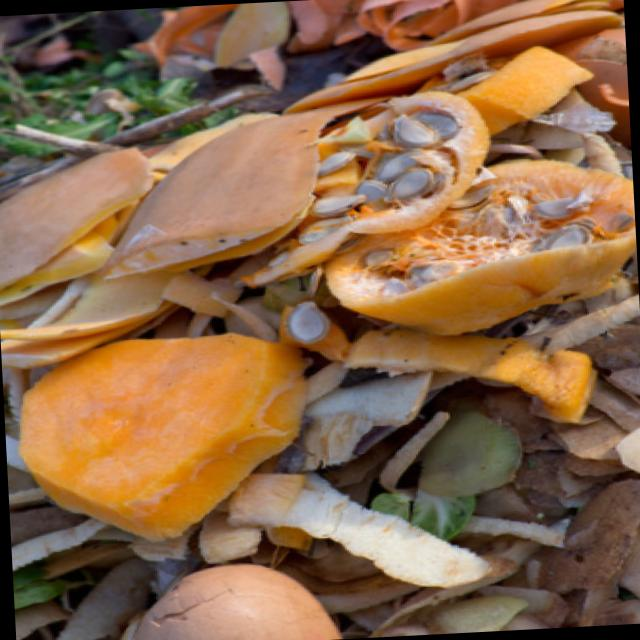paper: (161, 45, 640, 375), (10, 320, 319, 564), (232, 435, 522, 616), (173, 0, 626, 82), (102, 533, 382, 640)
